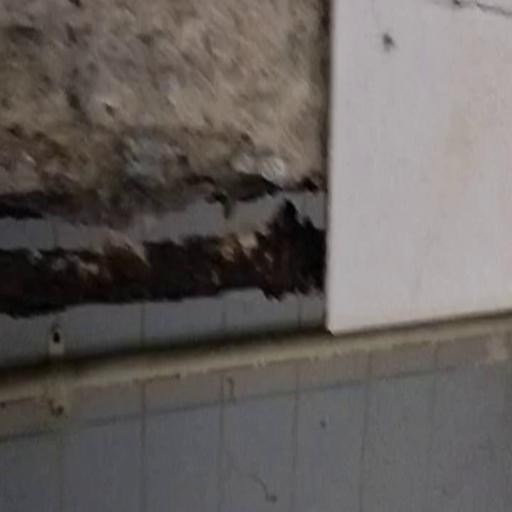spalling: (0, 0, 350, 264)
